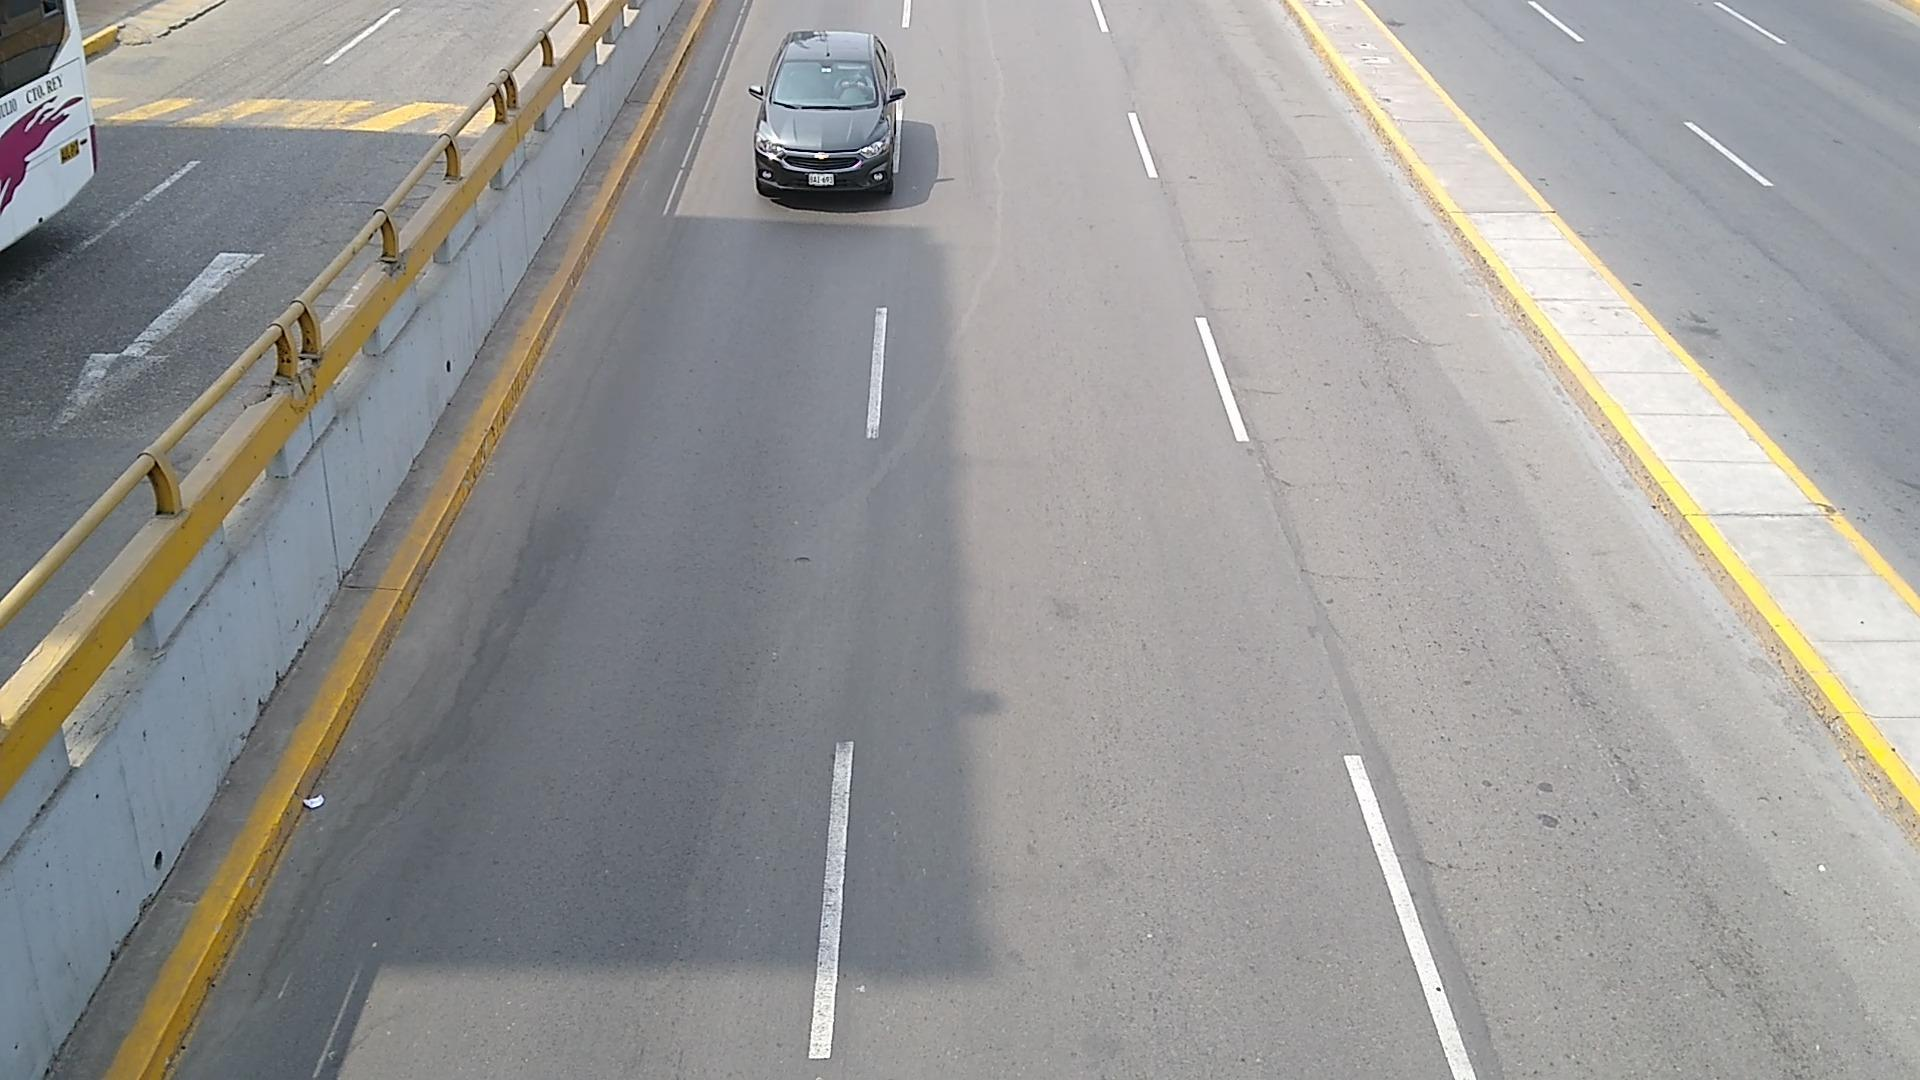car: (750, 30, 903, 199)
